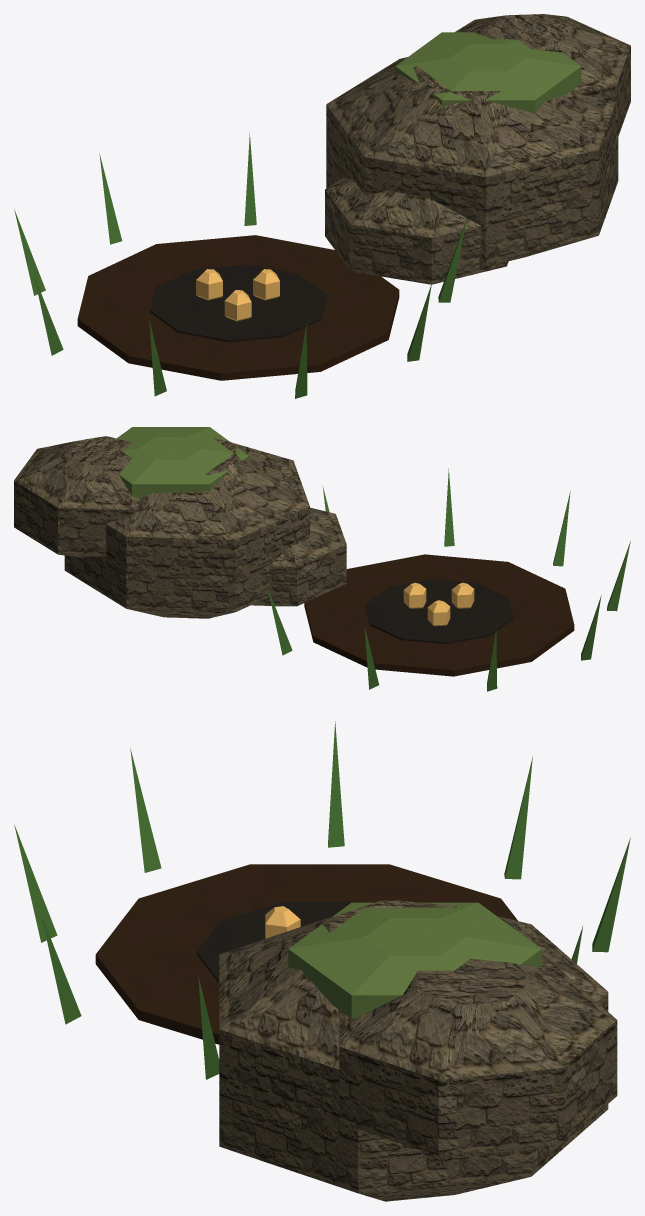
The model's file is puzzle_stone_01_open.glb.
The picture shows the model from 3 angles, top to bottom: view 1: azimuth 30°, elevation 25°; view 2: azimuth 150°, elevation 25°; view 3: azimuth 270°, elevation 25°; orthographic projection. The views are drawn at different scales.
Parts seen in each view (by area): view 1: puzzle_stone_01_open; view 2: puzzle_stone_01_open; view 3: puzzle_stone_01_open.
Part boxes in pixels (bbox=[...]): puzzle_stone_01_open: bbox=[14, 14, 630, 398]; puzzle_stone_01_open: bbox=[14, 427, 630, 691]; puzzle_stone_01_open: bbox=[14, 721, 630, 1201].
Size of the model in its own units: 1.78 by 0.4778 by 1.1.
Materials: 6 (6 with a texture image).
